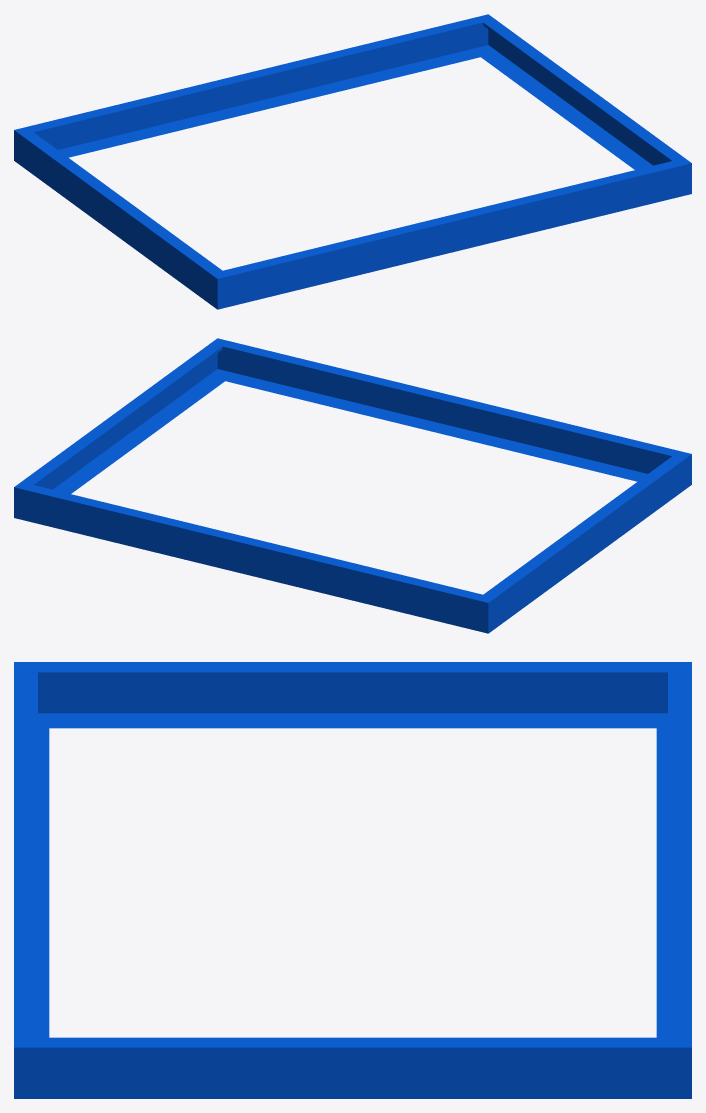
The model's file is datapad.glb.
3 renders of one model, top to bottom at view 1: azimuth 30°, elevation 25°; view 2: azimuth 150°, elevation 25°; view 3: azimuth 270°, elevation 25°, orthographic. The views are drawn at different scales.
Visible parts, largest first — view 1: Plane; view 2: Plane; view 3: Plane.
Part boxes in pixels (x1,y1,x2,y2): Plane: [14, 14, 691, 309]; Plane: [14, 338, 691, 633]; Plane: [14, 662, 691, 1098].
Bounding box in the file's own units: 4.04 × 0.25 × 3.
